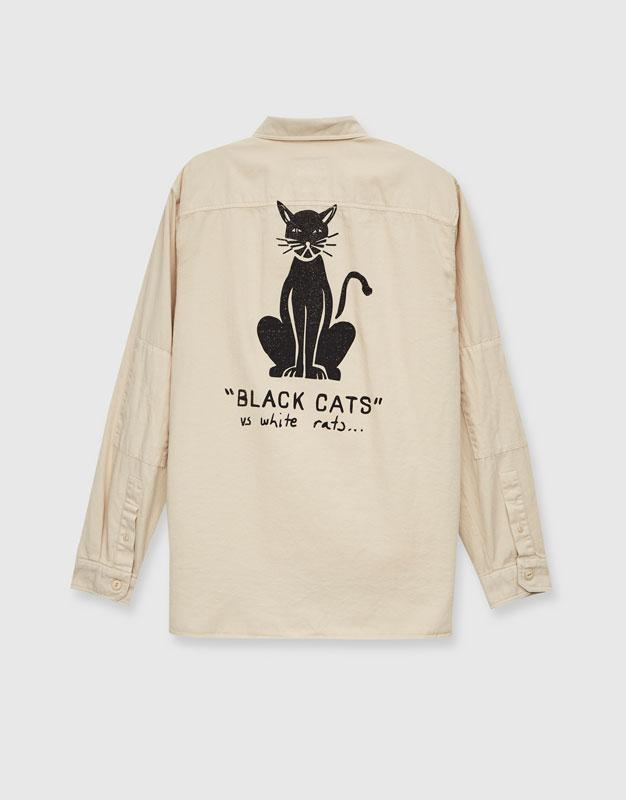teeshirt: (66, 116, 567, 658)
